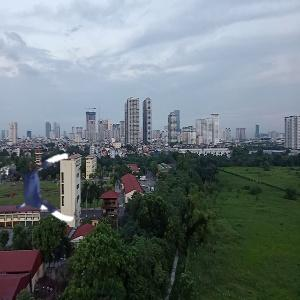drone: (6, 156, 82, 232)
